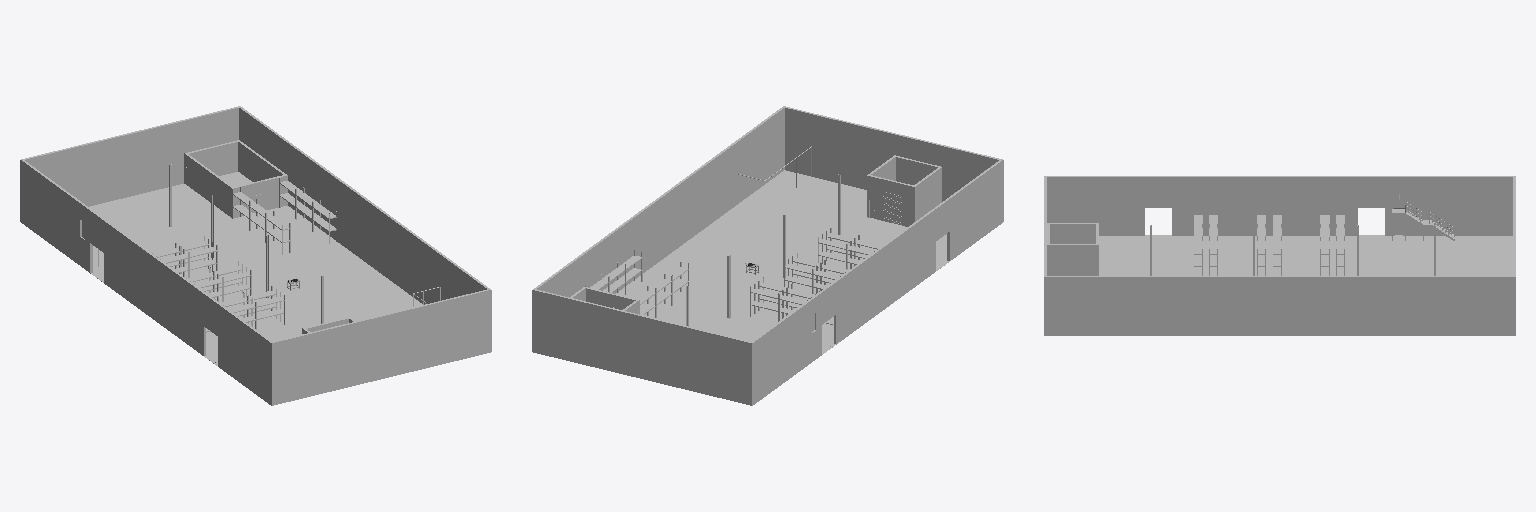
robot.urdf — ur10e_cell:
<?xml version="1.0" ?>
<!-- =================================================================================== -->
<!-- |    This document was autogenerated by xacro from [local-path]/ros2_ws/install/ur10e_cell_description/share/ur10e_cell_description/urdf/robot.urdf.xacro | -->
<!-- |    EDITING THIS FILE BY HAND IS NOT RECOMMENDED                                 | -->
<!-- =================================================================================== -->
<robot name="ur10e_cell">
    <material name="gray">
        <color rgba="0.7 0.7 0.7 1"/>
    </material>
    <material name="black">
        <color rgba="0 0 0 1"/>
    </material>
    <material name="darkgray">
        <color rgba="0.2 0.2 0.2 1"/>
    </material>
    <material name="aluminum">
        <color rgba="0.5 0.5 0.5 1"/>
    </material>
    <material name="w-gray">
        <color rgba="0.8 0.8 0.8 1.0"/>
    </material>
    <material name="plastic">
        <color rgba="0.1 0.1 0.1 1"/>
    </material>
    <material name="UR-blue">
        <color rgba="0.376 0.576 0.674 1.0"/>
    </material>
    <material name="white">
        <color rgba="1.0 1.0 1.0 1.0"/>
    </material>
    <material name="finger_pad">
        <color rgba="0.5 0.6 0.6 1"/>
    </material>
    <!--
      Base UR robot series xacro macro.

      NOTE this is NOT a URDF. It cannot directly be loaded by consumers
      expecting a flattened '.urdf' file. See the top-level '.xacro' for that
      (but note that .xacro must still be processed by the xacro command).

      This file models the base kinematic chain of a UR robot, which then gets
      parameterised by various configuration files to convert it into a UR3(e),
      UR5(e), UR10(e) or UR16e.

      NOTE the default kinematic parameters (i.e., link lengths, frame locations,
      offsets, etc) do not correspond to any particular robot. They are defaults
      only. There WILL be non-zero offsets between the Forward Kinematics results
      in TF (i.e., robot_state_publisher) and the values reported by the Teach
      Pendant.

      For accurate (and robot-specific) transforms, the 'kinematics_parameters_file'
      parameter MUST point to a .yaml file containing the appropriate values for
      the targeted robot.

      If using the UniversalRobots/Universal_Robots_ROS_Driver, follow the steps
      described in the readme of that repository to extract the kinematic
      calibration from the controller and generate the required .yaml file.

      Main author of the migration to yaml configs [author].

      Contributors to previous versions (in no particular order)

       - [author]
       - [author]
       - [author]
       - [author]
       - [author]
       - [author]
       - [author]
       - [author]
       - [author]
       - [author]
       - [author]
       - [author]
       - [author]
       - [author]
       - [author]
       - [author]
       - [author]
       - [author]
       - [author]
    -->
    <!--
      NOTE the macro defined in this file is NOT part of the public API of this
            package. Users CANNOT rely on this file being available, or stored in
            this location. Nor can they rely on the existence of the macro.
    -->
    <link name="corrected_world"/>
    <joint name="world_joint" type="fixed">
        <origin rpy="0 0 0" xyz="0.43 0 -0.973"/>
        <parent link="corrected_world"/>
        <child link="world"/>
    </joint>
    <link name="world"/>
    <joint name="warehouse_joint" type="fixed">
        <origin rpy="0 0 0" xyz="0 0 0"/>
        <parent link="world"/>
        <child link="warehouse_link"/>
    </joint>
    <link name="warehouse_link">
        <visual>
            <origin rpy="0 0 0" xyz="0 0 0"/>
            <geometry>
                <mesh filename="../meshes/warehouse.stl" scale="0.0001 0.0001 0.0001"/>
            </geometry>
            <material name="w-gray"/>
        </visual>
    </link>
    <joint name="table_joint" type="fixed">
        <origin rpy="0 0 0" xyz="0 0 0"/>
        <parent link="world"/>
        <child link="table_link"/>
    </joint>
    <link name="table_link">
        <contact>
            <lateral_friction value="1.0"/>
            <rolling_friction value="0.001"/>
            <inertia_scaling value="2"/>
        </contact>
        <inertial>
            <origin rpy="0 0 0" xyz="0 0 0"/>
            <mass value="0.01"/>
            <inertia ixx="1" ixy="0" ixz="0" iyy="1" iyz="0" izz="1"/>
        </inertial>
        <visual>
            <origin rpy="0 0 0" xyz="-0.63 -0.4025 0"/>
            <geometry>
                <mesh filename="../meshes/table.stl" scale="0.001 0.001 0.001"/>
            </geometry>
            <material name="gray"/>
        </visual>
        <collision>
            <origin rpy="0 0 0" xyz="0 0 0.474"/>
            <geometry>
                <box size="1.26 0.805 0.948"/>
            </geometry>
        </collision>
    </link>
    <joint name="platform_joint" type="fixed">
        <origin rpy="0 0 0.0" xyz="-0.43 0.0 0.973"/>
        <parent link="table_link"/>
        <child link="platform_link"/>
    </joint>
    <link name="platform_link">
        <visual>
            <origin rpy="0 0 0" xyz="0 0 -0.0125"/>
            <geometry>
                <box size="0.34 0.34 0.025"/>
            </geometry>
            <material name="none">
                <color rgba="0 0 0 0"/>
            </material>
        </visual>

        <collision>
            <origin rpy="0 0 0" xyz="0 0 -0.0125"/>
            <geometry>
                <box size="0.34 0.34 0.025"/>
            </geometry>
        </collision>
    </link>

    <joint name="board_joint" type="fixed">
        <origin rpy="0 0 0.0" xyz="0.17 0.0 0.948"/>
        <parent link="table_link"/>
        <child link="board_link"/>
    </joint>
    <link name="board_link">
        <contact>
            <lateral_friction value="1.0"/>
            <inertia_scaling value="3.0"/>
        </contact>
        <inertial>
            <origin rpy="0 0 0" xyz="0 0 0"/>
            <mass value="0"/>
            <inertia ixx="1" ixy="0" ixz="0" iyy="1" iyz="0" izz="1"/>
        </inertial>
        <visual>
            <origin rpy="0 0 0" xyz="0 0 0"/>
            <geometry>
                <box size="0.684 0.64 0.025"/>
            </geometry>

            <material name="darkgray"/>
        </visual>
        <collision>
            <origin rpy="0 0 0" xyz="0 0 0"/>
            <geometry>
                <box size="0.684 0.64 0.025"/>
            </geometry>
        </collision>
    </link>
    <!-- Add URDF transmission elements (for ros_control) -->
    <!--<xacro:ur_arm_transmission prefix="${prefix}" hw_interface="${transmission_hw_interface}" />-->
    <!-- Placeholder for ros2_control transmission which don't yet exist -->
    <!-- links -  main serial chain -->
    <link name="base_link"/>
    <link name="base_link_inertia">
        <visual>
            <origin rpy="0 0 3.141592653589793" xyz="0 0 0"/>
            <geometry>
                <mesh filename="../meshes/ur10e/visual/base.dae"/>
            </geometry>
            <material name="gray"/>
        </visual>
        <collision>
            <origin rpy="0 0 3.141592653589793" xyz="0 0 0"/>
            <geometry>
                <mesh filename="../meshes/ur10e/collision/base.stl"/>
            </geometry>
        </collision>
        <inertial>
            <mass value="4.0"/>
            <origin rpy="0 0 0" xyz="0 0 0"/>
            <inertia ixx="0.0061063308908" ixy="0.0" ixz="0.0" iyy="0.0061063308908" iyz="0.0" izz="0.01125"/>
        </inertial>
    </link>
    <link name="shoulder_link">
        <visual>
            <origin rpy="0 0 3.141592653589793" xyz="0 0 0"/>
            <geometry>
                <mesh filename="../meshes/ur10e/visual/shoulder.dae"/>
            </geometry>
            <material name="UR-blue"/>
        </visual>
        <collision>
            <origin rpy="0 0 3.141592653589793" xyz="0 0 0"/>
            <geometry>
                <mesh filename="../meshes/ur10e/collision/shoulder.stl"/>
            </geometry>
        </collision>
        <inertial>
            <mass value="7.778"/>
            <origin rpy="0 0 0" xyz="0 0 0"/>
            <inertia ixx="0.03147431257693659" ixy="0.0" ixz="0.0" iyy="0.03147431257693659" iyz="0.0"
                     izz="0.021875624999999996"/>
        </inertial>
    </link>
    <link name="upper_arm_link">
        <visual>
            <origin rpy="1.5707963267948966 0 -1.5707963267948966" xyz="0 0 0.1762"/>
            <geometry>
                <mesh filename="../meshes/ur10e/visual/upperarm.dae"/>
            </geometry>
            <material name="gray"/>
        </visual>
        <collision>
            <origin rpy="1.5707963267948966 0 -1.5707963267948966" xyz="0 0 0.1762"/>
            <geometry>
                <mesh filename="../meshes/ur10e/collision/upperarm.stl"/>
            </geometry>
        </collision>
        <inertial>
            <mass value="12.93"/>
            <origin rpy="0 1.5707963267948966 0" xyz="-0.306 0.0 0.175"/>
            <inertia ixx="0.42175380379841093" ixy="0.0" ixz="0.0" iyy="0.42175380379841093" iyz="0.0"
                     izz="0.03636562499999999"/>
        </inertial>
    </link>
    <link name="forearm_link">
        <visual>
            <origin rpy="1.5707963267948966 0 -1.5707963267948966" xyz="0 0 0.0393"/>
            <geometry>
                <mesh filename="../meshes/ur10e/visual/forearm.dae"/>
            </geometry>
            <material name="gray"/>
        </visual>
        <collision>
            <origin rpy="1.5707963267948966 0 -1.5707963267948966" xyz="0 0 0.0393"/>
            <geometry>
                <mesh filename="../meshes/ur10e/collision/forearm.stl"/>
            </geometry>
        </collision>
        <inertial>
            <mass value="3.87"/>
            <origin rpy="0 1.5707963267948966 0" xyz="-0.285775 0.0 0.0393"/>
            <inertia ixx="0.11079302548902206" ixy="0.0" ixz="0.0" iyy="0.11079302548902206" iyz="0.0"
                     izz="0.010884375"/>
        </inertial>
    </link>
    <link name="wrist_1_link">
        <visual>
            <origin rpy="1.5707963267948966 0 0" xyz="0 0 -0.135"/>
            <geometry>
                <mesh filename="../meshes/ur10e/visual/wrist1.dae"/>
            </geometry>
            <material name="UR-blue"/>
        </visual>
        <collision>
            <origin rpy="1.5707963267948966 0 0" xyz="0 0 -0.135"/>
            <geometry>
                <mesh filename="../meshes/ur10e/collision/wrist1.stl"/>
            </geometry>
        </collision>
        <inertial>
            <mass value="1.96"/>
            <origin rpy="0 0 0" xyz="0 0 0"/>
            <inertia ixx="0.005108247956699999" ixy="0.0" ixz="0.0" iyy="0.005108247956699999" iyz="0.0"
                     izz="0.005512499999999999"/>
        </inertial>
    </link>
    <link name="wrist_2_link">
        <visual>
            <origin rpy="0 0 0" xyz="0 0 -0.12"/>
            <geometry>
                <mesh filename="../meshes/ur10e/visual/wrist2.dae"/>
            </geometry>
            <material name="gray"/>
        </visual>
        <collision>
            <origin rpy="0 0 0" xyz="0 0 -0.12"/>
            <geometry>
                <mesh filename="../meshes/ur10e/collision/wrist2.stl"/>
            </geometry>
        </collision>
        <inertial>
            <mass value="1.96"/>
            <origin rpy="0 0 0" xyz="0 0 0"/>
            <inertia ixx="0.005108247956699999" ixy="0.0" ixz="0.0" iyy="0.005108247956699999" iyz="0.0"
                     izz="0.005512499999999999"/>
        </inertial>
    </link>
    <link name="wrist_3_link">
        <visual>
            <origin rpy="1.5707963267948966 0 0" xyz="0 0 -0.1168"/>
            <geometry>
                <mesh filename="../meshes/ur10e/visual/wrist3.dae"/>
            </geometry>
            <material name="gray"/>
        </visual>
        <collision>
            <origin rpy="1.5707963267948966 0 0" xyz="0 0 -0.1168"/>
            <geometry>
                <mesh filename="../meshes/ur10e/collision/wrist3.stl"/>
            </geometry>
        </collision>
        <inertial>
            <mass value="0.202"/>
            <origin rpy="0 0 0" xyz="0.0 0.0 -0.025"/>
            <inertia ixx="0.00014434577559500002" ixy="0.0" ixz="0.0" iyy="0.00014434577559500002" iyz="0.0"
                     izz="0.00020452500000000002"/>
        </inertial>
    </link>
    <!-- base_joint fixes base_link to the environment -->
    <joint name="base_joint" type="fixed">
        <origin rpy="0 0 0" xyz="0 0 0"/>
        <parent link="platform_link"/>
        <child link="base_link"/>
    </joint>
    <!-- joints - main serial chain -->
    <joint name="base_link-base_link_inertia" type="fixed">
        <parent link="base_link"/>
        <child link="base_link_inertia"/>
        <!-- 'base_link' is REP-103 aligned (so X+ forward), while the internal
               frames of the robot/controller have X+ pointing backwards.
               Use the joint between 'base_link' and 'base_link_inertia' (a dummy
               link/frame) to introduce the necessary rotation over Z (of pi rad).
          -->
        <origin rpy="0 0 3.141592653589793" xyz="0 0 0"/>
    </joint>
    <joint name="shoulder_pan_joint" type="revolute">
        <parent link="base_link_inertia"/>
        <child link="shoulder_link"/>
        <origin rpy="0 0 0" xyz="0 0 0.1807"/>
        <axis xyz="0 0 1"/>
        <limit effort="330.0" lower="-6.283185307179586" upper="6.283185307179586" velocity="2.0943951023931953"/>
        <dynamics damping="0" friction="0"/>
    </joint>
    <joint name="shoulder_lift_joint" type="revolute">
        <parent link="shoulder_link"/>
        <child link="upper_arm_link"/>
        <origin rpy="1.570796327 0 0" xyz="0 0 0"/>
        <axis xyz="0 0 1"/>
        <limit effort="330.0" lower="-6.283185307179586" upper="6.283185307179586" velocity="2.0943951023931953"/>
        <dynamics damping="0" friction="0"/>
    </joint>
    <joint name="elbow_joint" type="revolute">
        <parent link="upper_arm_link"/>
        <child link="forearm_link"/>
        <origin rpy="0 0 0" xyz="-0.6127 0 0"/>
        <axis xyz="0 0 1"/>
        <limit effort="150.0" lower="-3.141592653589793" upper="3.141592653589793" velocity="3.141592653589793"/>
        <dynamics damping="0" friction="0"/>
    </joint>
    <joint name="wrist_1_joint" type="revolute">
        <parent link="forearm_link"/>
        <child link="wrist_1_link"/>
        <origin rpy="0 0 0" xyz="-0.57155 0 0.17415"/>
        <axis xyz="0 0 1"/>
        <limit effort="56.0" lower="-6.283185307179586" upper="6.283185307179586" velocity="3.141592653589793"/>
        <dynamics damping="0" friction="0"/>
    </joint>
    <joint name="wrist_2_joint" type="revolute">
        <parent link="wrist_1_link"/>
        <child link="wrist_2_link"/>
        <origin rpy="1.570796327 0 0" xyz="0 -0.11985 -2.458164590756244e-11"/>
        <axis xyz="0 0 1"/>
        <limit effort="56.0" lower="-6.283185307179586" upper="6.283185307179586" velocity="3.141592653589793"/>
        <dynamics damping="0" friction="0"/>
    </joint>
    <joint name="wrist_3_joint" type="revolute">
        <parent link="wrist_2_link"/>
        <child link="wrist_3_link"/>
        <origin rpy="1.570796326589793 3.141592653589793 3.141592653589793" xyz="0 0.11655 -2.390480459346185e-11"/>
        <axis xyz="0 0 1"/>
        <limit effort="56.0" lower="-6.283185307179586" upper="6.283185307179586" velocity="3.141592653589793"/>
        <dynamics damping="0" friction="0"/>
    </joint>
    <link name="ft_frame"/>
    <joint name="wrist_3_link-ft_frame" type="fixed">
        <parent link="wrist_3_link"/>
        <child link="ft_frame"/>
        <origin rpy="3.141592653589793 0 0" xyz="0 0 0"/>
    </joint>
    <!-- ROS-Industrial 'base' frame - base_link to UR 'Base' Coordinates transform -->
    <link name="base"/>
    <joint name="base_link-base_fixed_joint" type="fixed">
        <!-- Note the rotation over Z of pi radians - as base_link is REP-103
               aligned (i.e., has X+ forward, Y+ left and Z+ up), this is needed
               to correctly align 'base' with the 'Base' coordinate system of
               the UR controller.
          -->
        <origin rpy="0 0 3.141592653589793" xyz="0 0 0"/>
        <parent link="base_link"/>
        <child link="base"/>
    </joint>
    <!-- ROS-Industrial 'flange' frame - attachment point for EEF models -->
    <link name="flange"/>
    <joint name="wrist_3-flange" type="fixed">
        <parent link="wrist_3_link"/>
        <child link="flange"/>
        <origin rpy="0 -1.5707963267948966 -1.5707963267948966" xyz="0 0 0"/>
    </joint>
    <!-- ROS-Industrial 'tool0' frame - all-zeros tool frame -->
    <link name="tool0"/>
    <joint name="flange-tool0" type="fixed">
        <!-- default toolframe - X+ left, Y+ up, Z+ front -->
        <origin rpy="1.5707963267948966 0 1.5707963267948966" xyz="0 0 0"/>
        <parent link="flange"/>
        <child link="tool0"/>
    </joint>
    <joint name="tool1" type="fixed">
        <origin rpy="0 0 3.141592653589793" xyz="0.0 0.0 0.0"/>
        <parent link="tool0"/>
        <child link="cylinder_link"/>
    </joint>
    <link name="cylinder_link">
        <visual>
            <origin rpy="0 0 0" xyz="0 0 0"/>
            <geometry>
                <cylinder radius="0.01" length="0.2"/>
            </geometry>
            <material name="gray">
                <color rgba="0.5 0.5 0.5 1"/>
            </material>
        </visual>
    </link>
    <joint name="cylinder-tcp" type="fixed">
        <origin rpy="0 0 0" xyz="0.0 0.0 0.2"/>
        <parent link="cylinder_link"/>
        <child link="tcp_link"/>
    </joint>
    <link name="tcp_link"/>
</robot>

--- Render facts (derived) ---
The picture shows the robot from 3 angles, left to right: view 1: azimuth 30°, elevation 25°; view 2: azimuth 150°, elevation 25°; view 3: azimuth 270°, elevation 25°; orthographic projection.
Robot: ur10e_cell — 20 links, 19 joints (6 revolute, 13 fixed); root link corrected_world; default pose: all joints at 0.
Visible links, largest first — view 1: warehouse_link; view 2: warehouse_link; view 3: warehouse_link.
Boxes of the visible links, x1,y1,x2,y2 form: warehouse_link: (20,106,491,405); warehouse_link: (532,106,1003,405); warehouse_link: (1044,176,1515,335).
Size in the robot's own frame: 28.04 by 55.47 by 7.65 metres.
2 mesh visuals loaded from 9 distinct referenced files (2 binary STL); not drawn: 7 (reference not matched to a file when rendering).